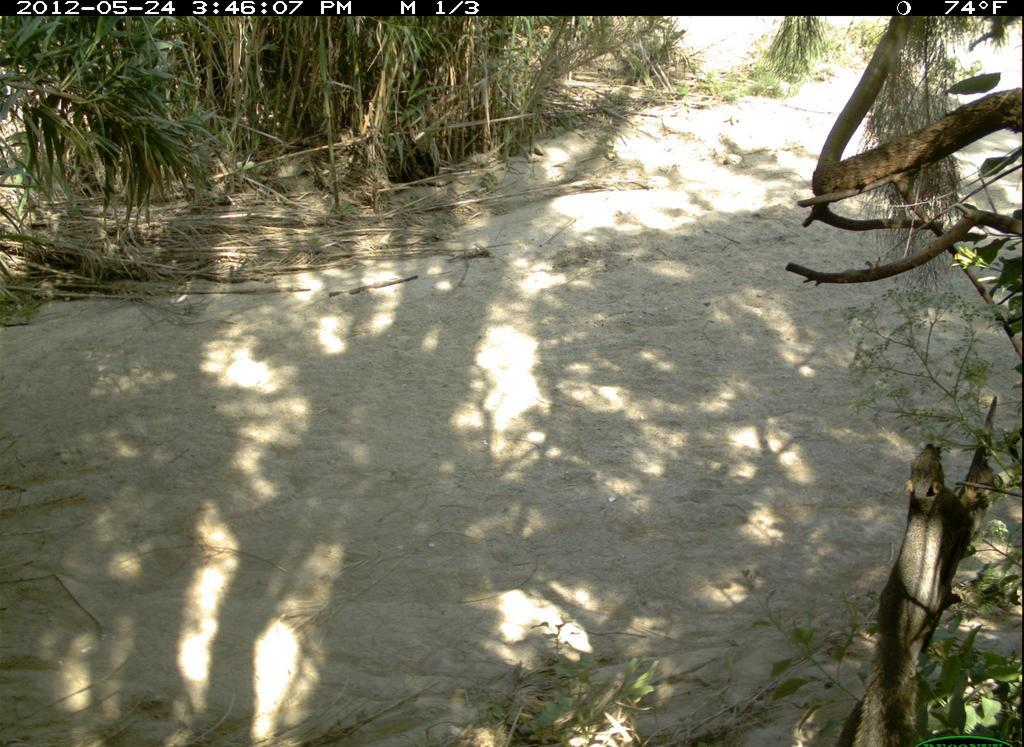squirrel: (854, 441, 980, 747)
